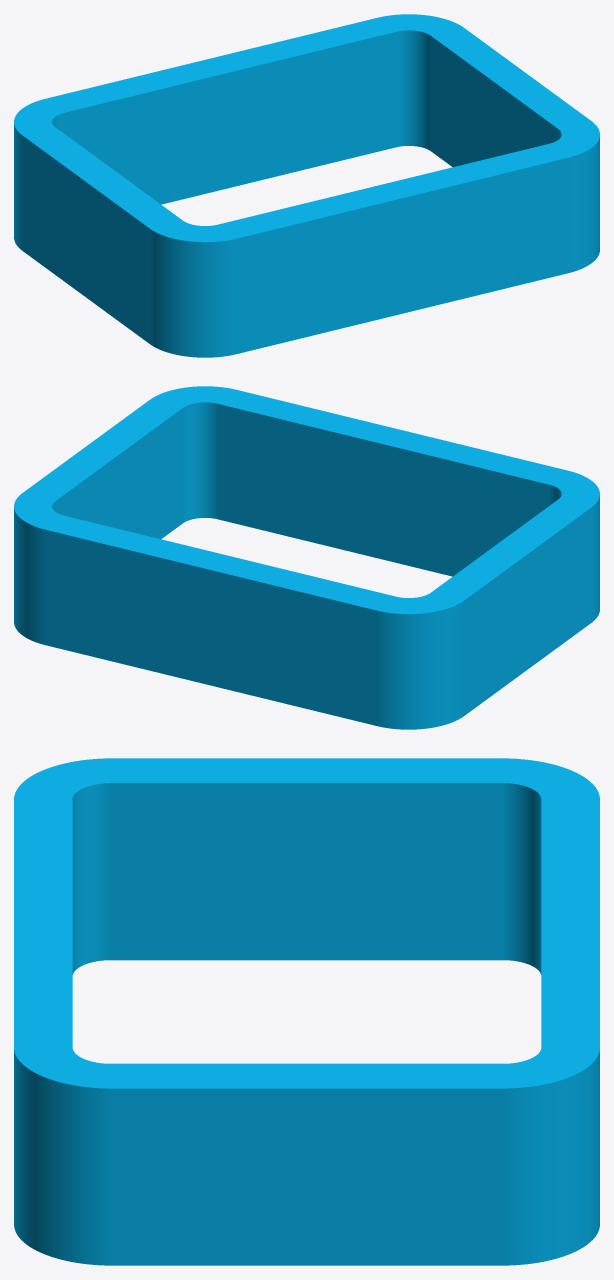
File: otelenmis_cerceve.gltf
3 renders of one model, top to bottom at view 1: azimuth 30°, elevation 25°; view 2: azimuth 150°, elevation 25°; view 3: azimuth 270°, elevation 25°, orthographic. The views are drawn at different scales.
Visible parts, largest first — view 1: Gövde; view 2: Gövde; view 3: Gövde.
Boxes of the visible parts, left/top/right/bottom form: Gövde: left=14, top=14, right=599, bottom=357; Gövde: left=14, top=386, right=599, bottom=729; Gövde: left=14, top=758, right=599, bottom=1265.
Size of the model in its own units: 0.04 by 0.01 by 0.03.
